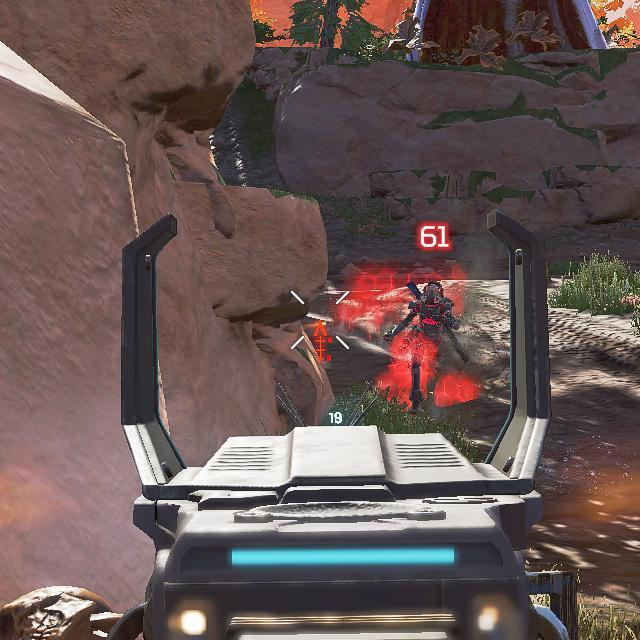avatar: (403, 279, 456, 412)
